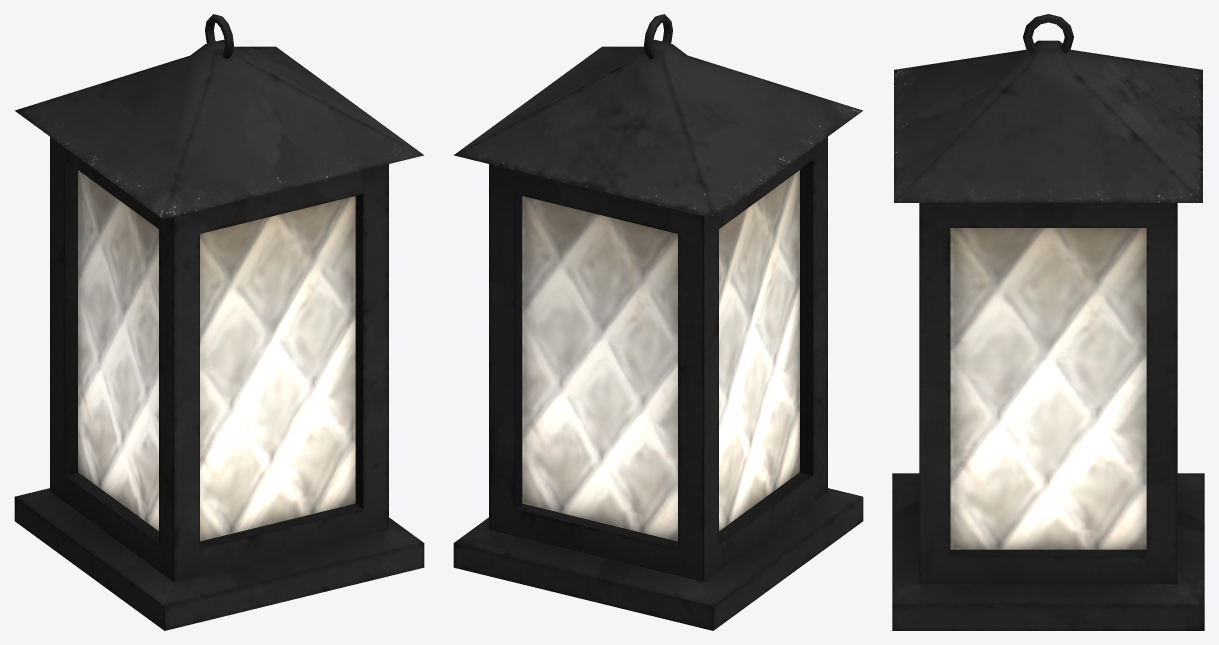
The model's file is Lantern.fbx.
The picture shows the model from 3 angles, left to right: view 1: azimuth 30°, elevation 25°; view 2: azimuth 150°, elevation 25°; view 3: azimuth 270°, elevation 25°; orthographic projection. The views are drawn at different scales.
Parts seen in each view (by area): view 1: Lantern; view 2: Lantern; view 3: Lantern.
Part boxes in pixels (x1,y1,x2,y2): Lantern: (14, 14, 424, 630); Lantern: (453, 14, 863, 630); Lantern: (892, 14, 1204, 630).
Bounding box in the file's own units: 14.27 × 27.55 × 14.15.
